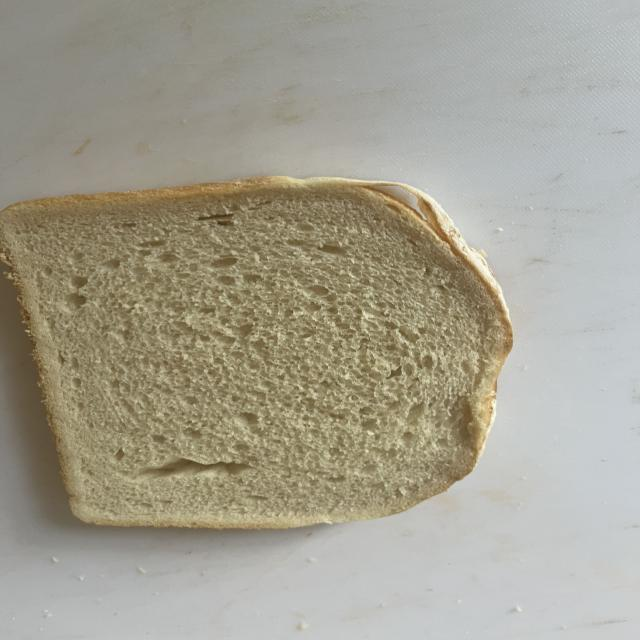sliced_bread: (0, 178, 510, 528)
